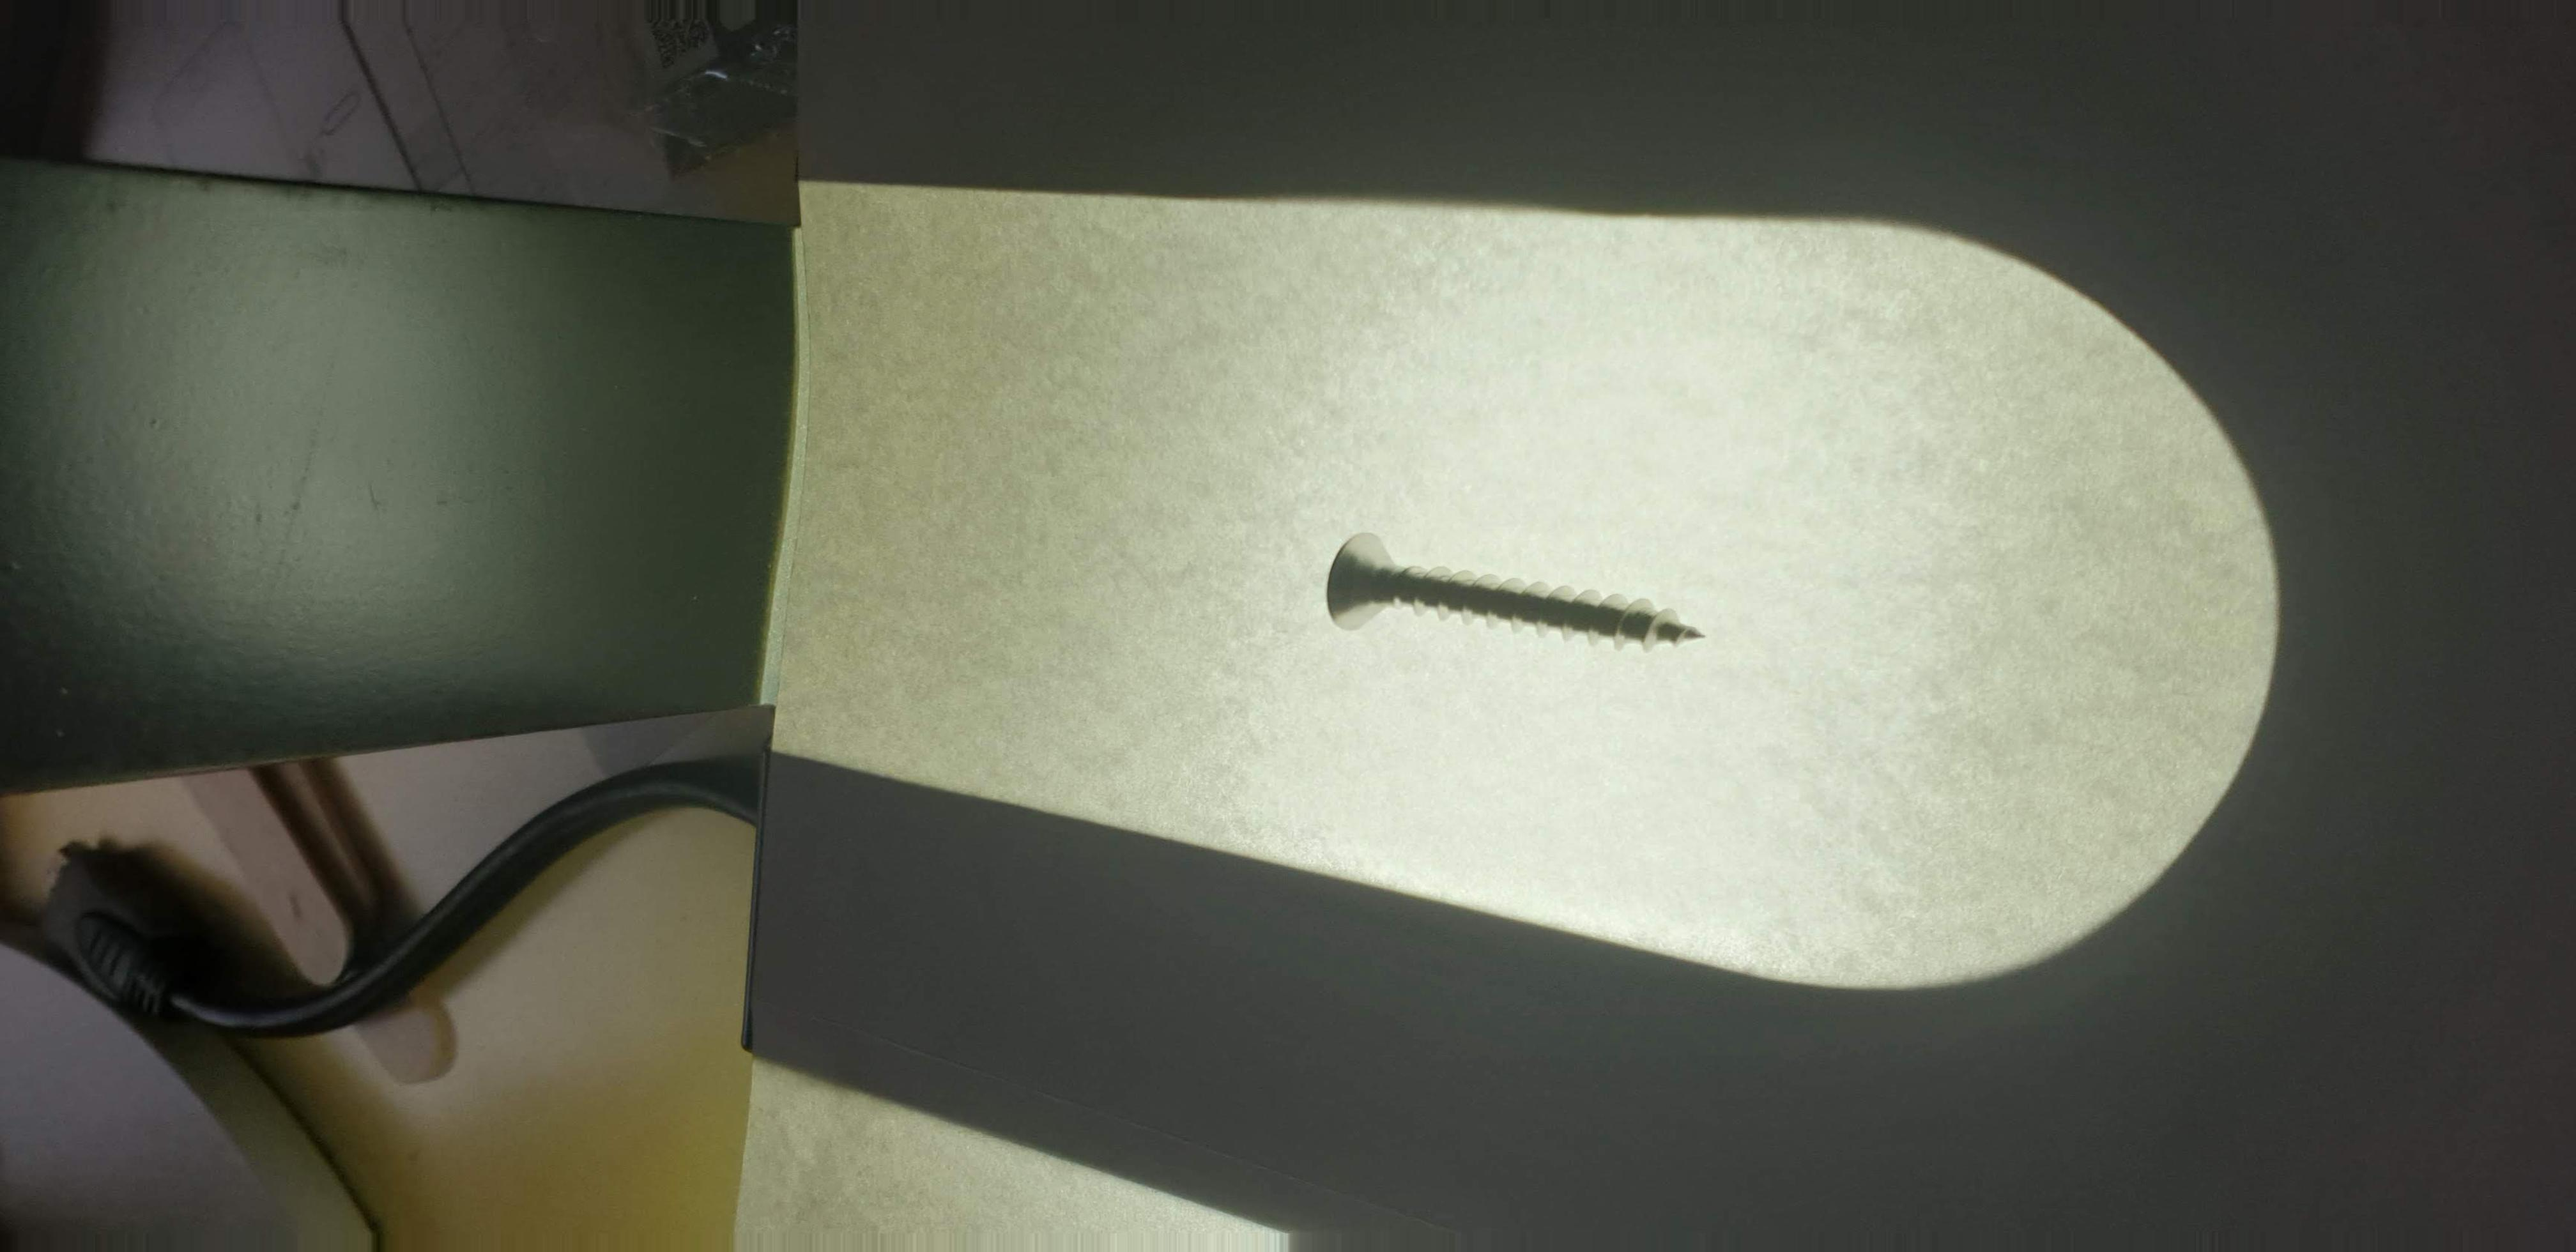S004: (1298, 496, 1730, 672)
